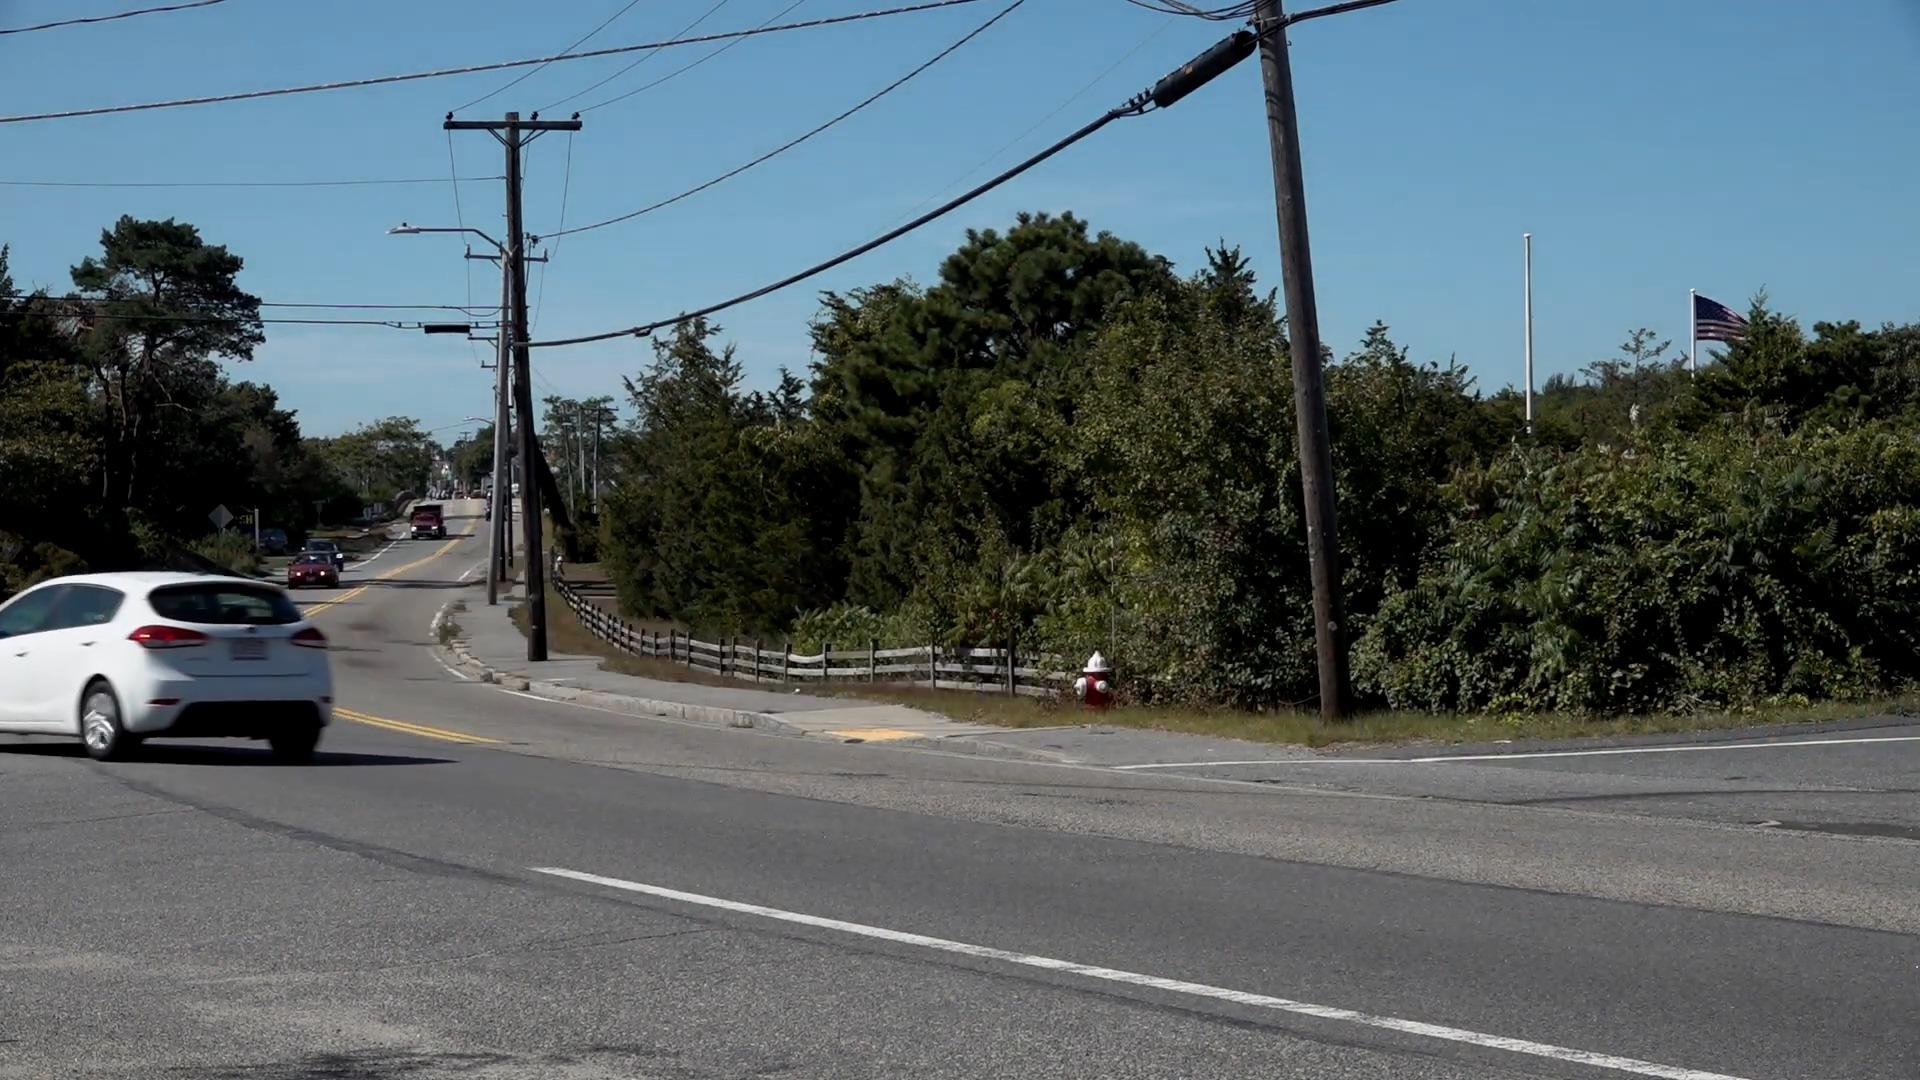sedans: (0, 567, 338, 748)
